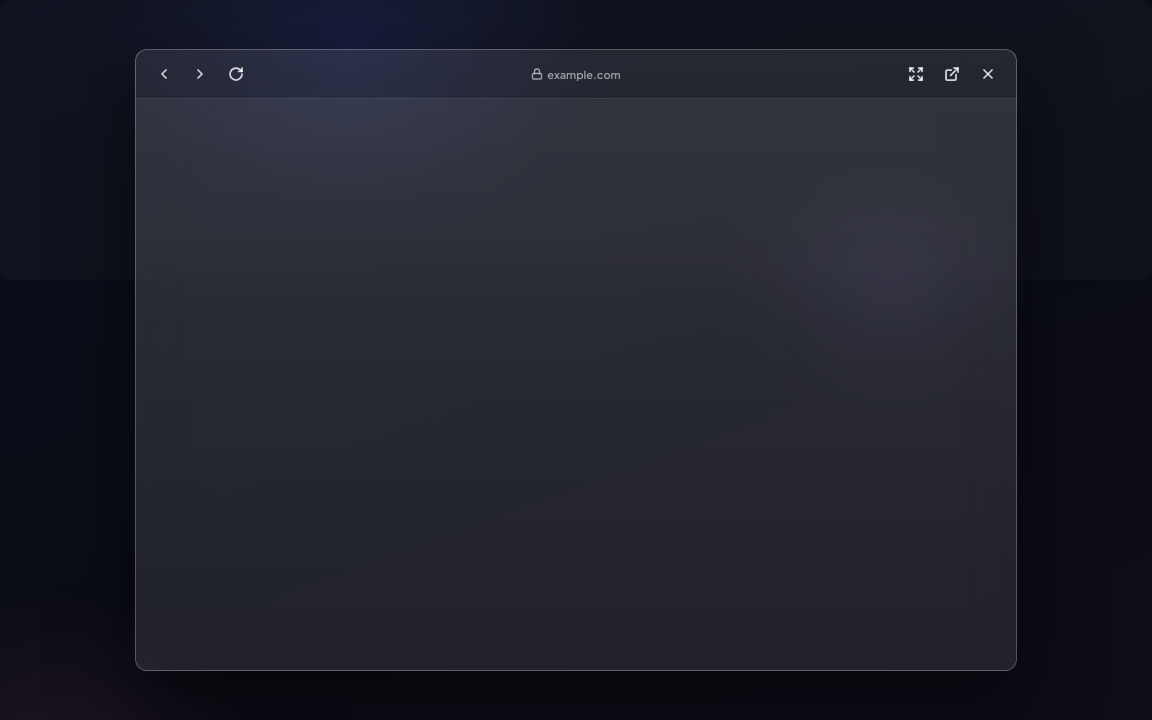
Scenario: WebViewWidget peek › expand promotes the peeked page into the tile
This screenshot has width=1152, height=720.
Click the button named "Open in tile". click: (916, 74)
box: left=900, top=58, right=932, bottom=90
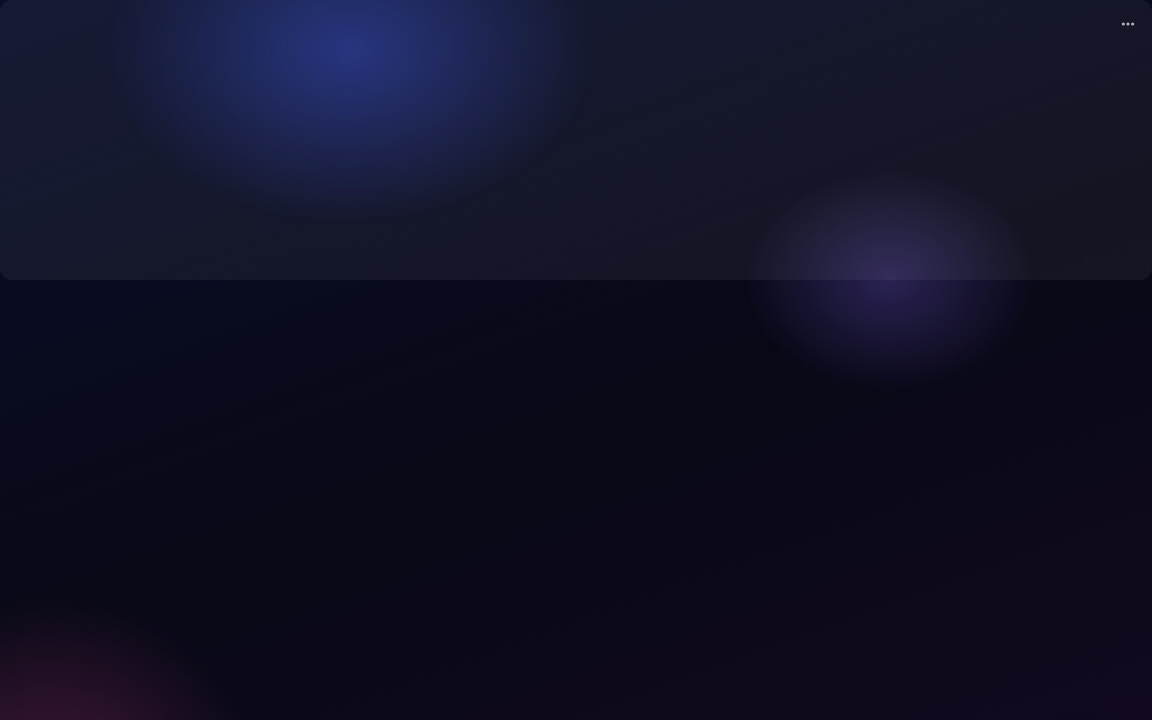
Now the element with test id "web-peek" is gone
